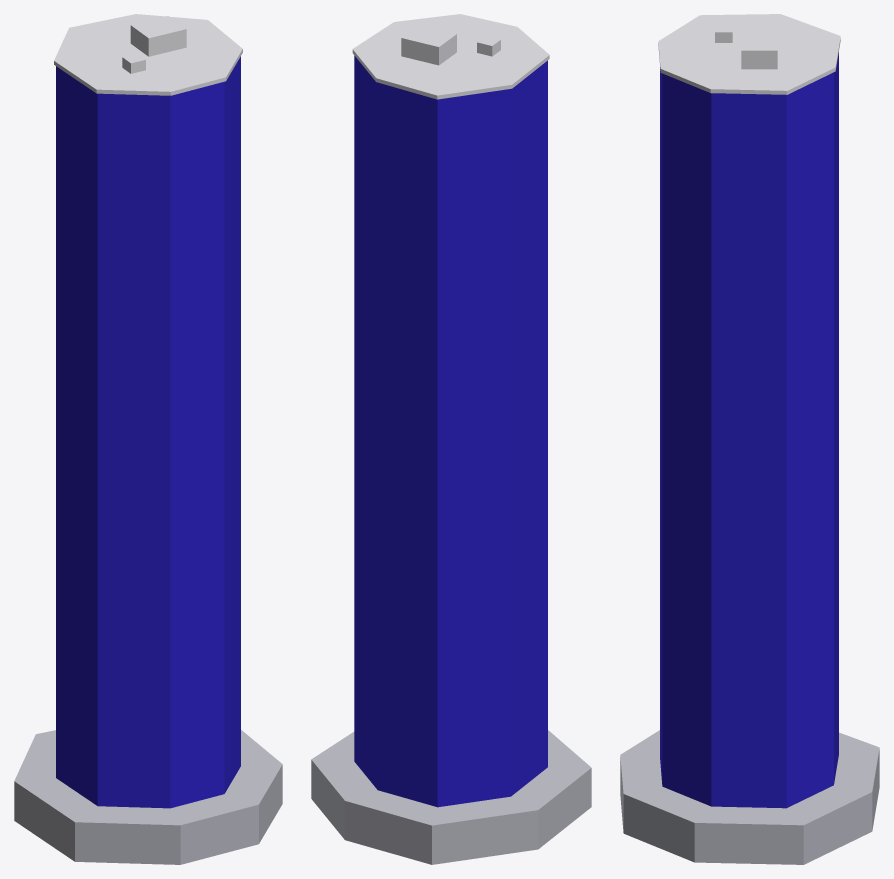
File: tower-shell.glb
The picture shows the model from 3 angles, left to right: view 1: azimuth 30°, elevation 25°; view 2: azimuth 150°, elevation 25°; view 3: azimuth 270°, elevation 25°; orthographic projection.
Parts seen in each view (by area): view 1: shell; view 2: shell; view 3: shell.
Boxes of the visible parts, x1,y1,x2,y2 form: shell: (14,14,282,864); shell: (311,14,591,864); shell: (620,14,879,864).
Size of the model in its own units: 35.45 by 117 by 35.55.
